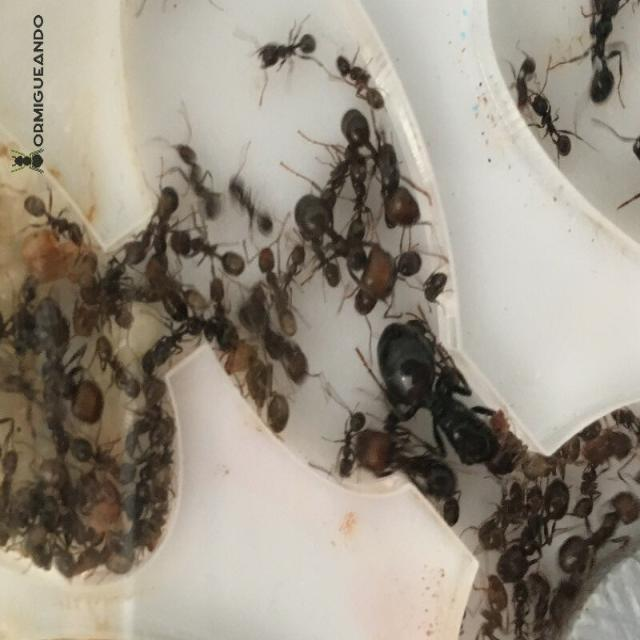ants: (370, 307, 520, 483), (286, 177, 399, 304), (340, 103, 419, 237), (32, 299, 113, 425), (491, 481, 577, 579), (246, 294, 319, 406), (357, 418, 453, 501), (225, 340, 298, 448), (564, 488, 640, 586), (253, 236, 308, 348), (580, 0, 633, 108), (171, 212, 248, 286), (138, 178, 190, 274), (22, 187, 87, 256), (530, 86, 576, 178), (331, 44, 387, 108), (249, 22, 316, 72), (204, 269, 235, 352), (337, 402, 368, 484)
